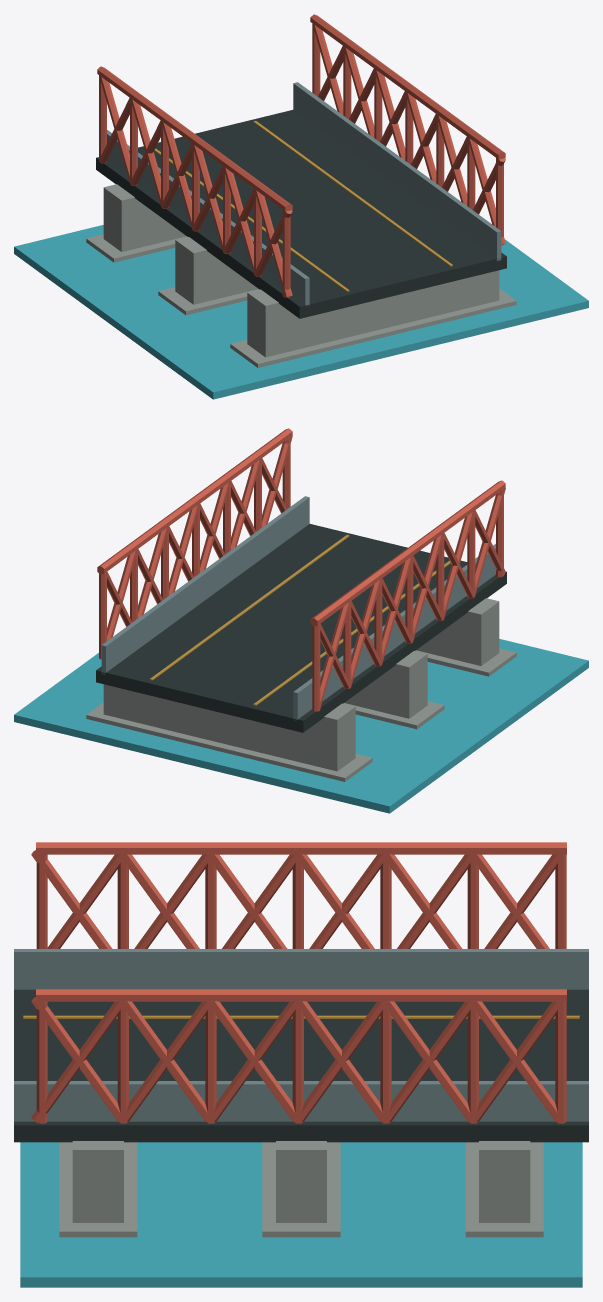
Rendered from bridge_lv2.glb.
The picture shows the model from 3 angles, top to bottom: view 1: azimuth 30°, elevation 25°; view 2: azimuth 150°, elevation 25°; view 3: azimuth 270°, elevation 25°; orthographic projection. The views are drawn at different scales.
Parts seen in each view (by area): view 1: rough, glossy, metallic; view 2: rough, glossy, metallic; view 3: rough, glossy, metallic.
Part boxes in pixels (left/top/right/bottom): rough: left=86, top=14, right=516, bottom=367; glossy: left=14, top=225, right=588, bottom=399; metallic: left=107, top=82, right=501, bottom=306; rough: left=86, top=428, right=516, bottom=781; glossy: left=14, top=639, right=588, bottom=813; metallic: left=101, top=496, right=495, bottom=721; rough: left=14, top=842, right=588, bottom=1237; glossy: left=20, top=1142, right=582, bottom=1287; metallic: left=14, top=949, right=588, bottom=1121.
Bounding box in the file's own units: 9.8 × 4.28 × 9.2.
